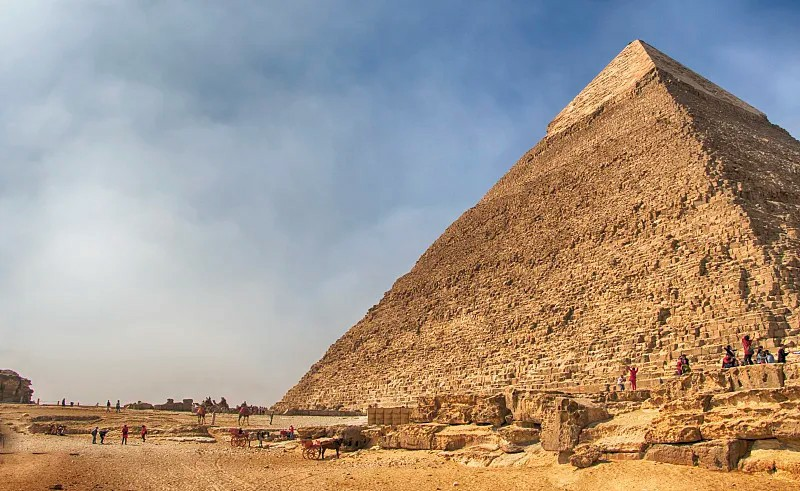Pyramid: (266, 41, 800, 413)
